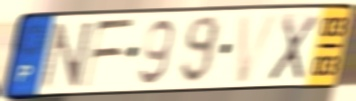9: (179, 14, 223, 87), (137, 17, 176, 88)
F: (81, 16, 138, 91)
N: (40, 19, 97, 91)
V: (233, 11, 283, 86)
X: (265, 12, 321, 84)
